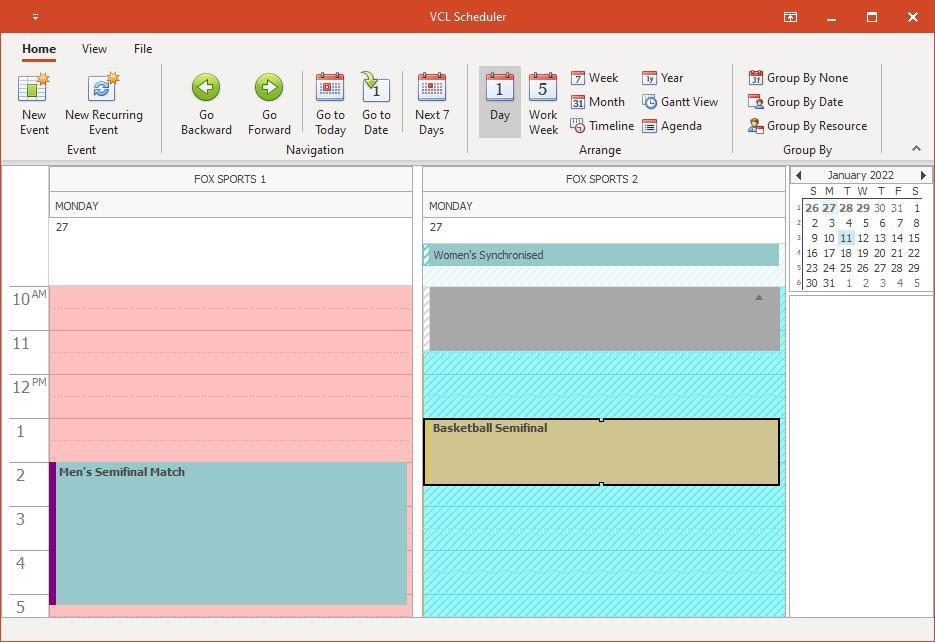icon: (11, 69, 62, 110), (358, 68, 398, 112), (481, 66, 521, 108), (412, 69, 452, 107), (248, 72, 288, 109), (315, 68, 351, 108), (86, 72, 121, 110), (526, 65, 558, 105), (191, 72, 224, 108), (746, 69, 768, 89), (747, 90, 765, 114), (570, 69, 589, 90), (641, 117, 660, 138), (747, 114, 766, 135), (567, 92, 589, 110), (638, 72, 661, 87), (640, 93, 659, 111), (570, 115, 586, 136)
